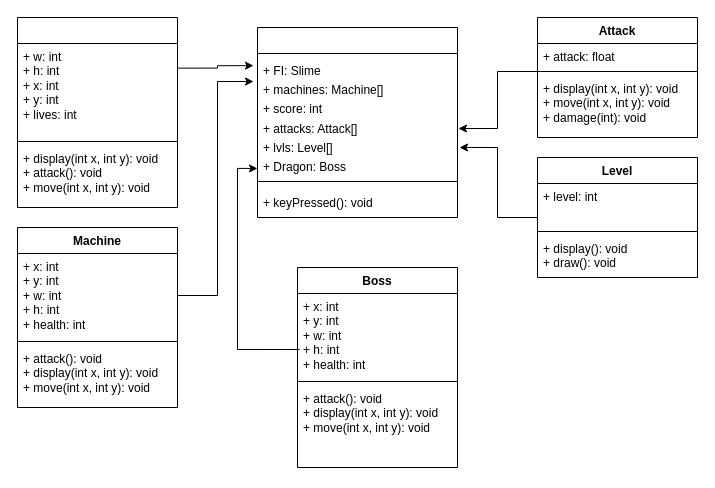
This 715x488 diagram has some shape labels left out. Each missing label, with the box of its shape:
Fire & Ice Slime: (256, 26, 458, 218)
Slime: (16, 16, 178, 208)
